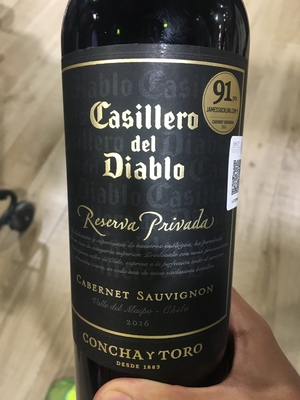casillero del diablo reserva privada cabernet sauvignon: (57, 1, 259, 397)
